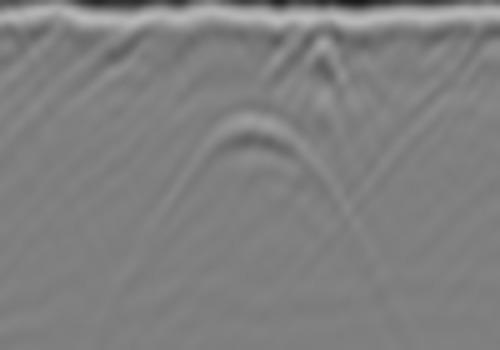Hyperbola: (118, 84, 364, 242), (287, 17, 364, 114)
